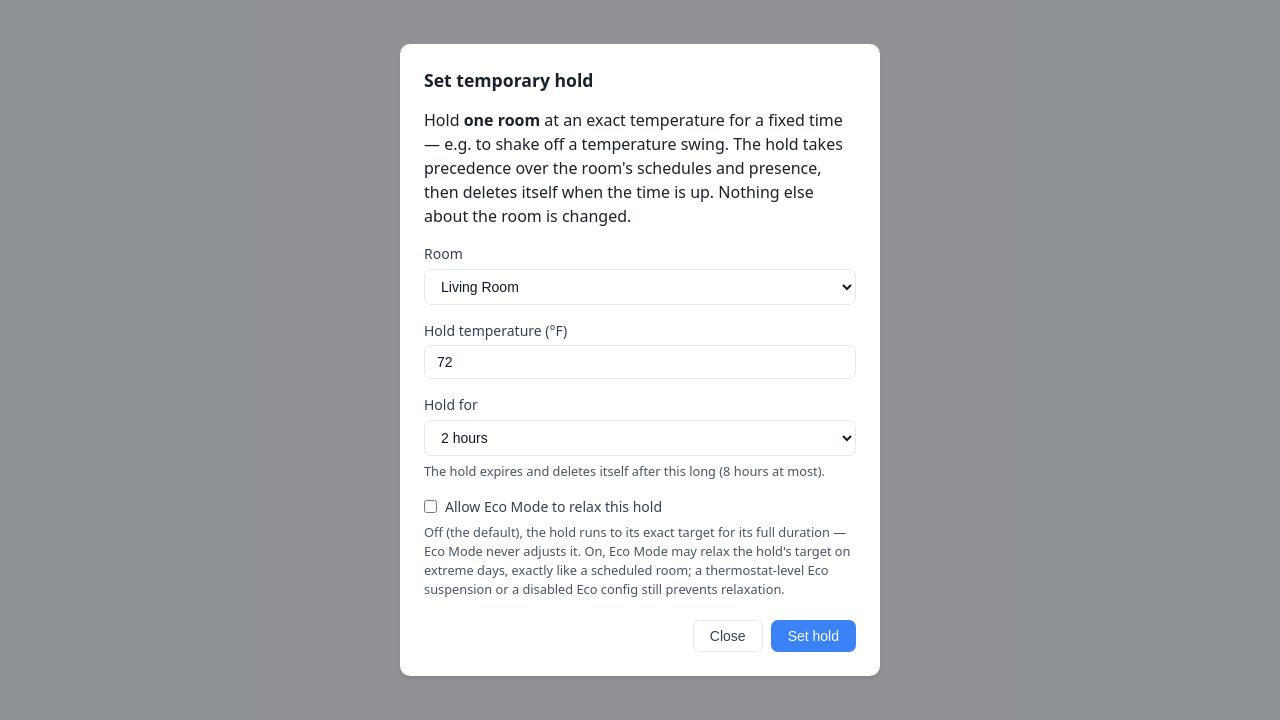
Test: HoldModal (Issue #576) › loads a held room's target and Eco opt-in when it is picked
The width and height of the screenshot is (1280, 720).
expect the number field labelled "Hold temperature (°F)" holds "72": met, box [424,345,856,379]
expect the checkbox labelled "Allow Eco Mode to relax this hold" is not checked: met, box [424,500,437,513]
Note: Switching to the held room pulls in ITS hold.
Select "Bedroom — hold active" in the dropdown labelled "Room": (640, 287) [424,269,856,305]
(page scrolled)
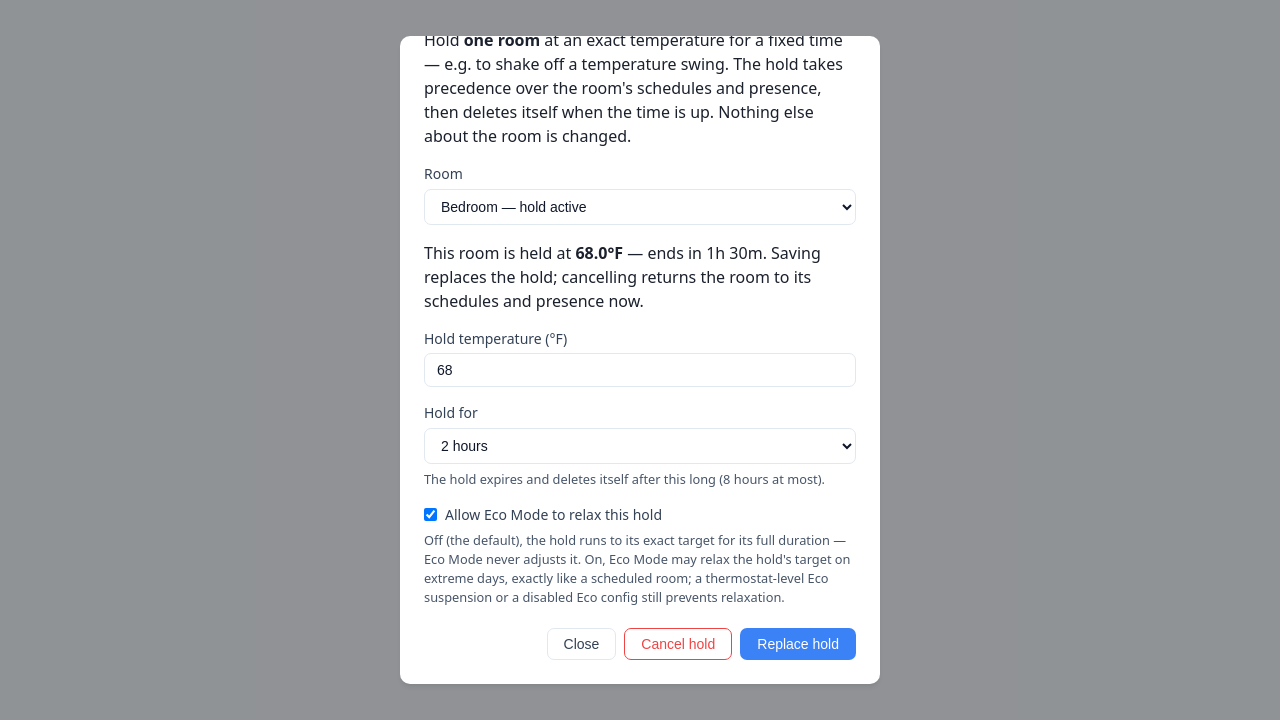
expect the number field labelled "Hold temperature (°F)" holds "68": met, box [424,353,856,387]
expect the checkbox labelled "Allow Eco Mode to relax this hold" is checked: met, box [424,508,437,521]
expect the button with test id "hold-modal-save" reads "Replace hold": met, box [740,628,856,660]
